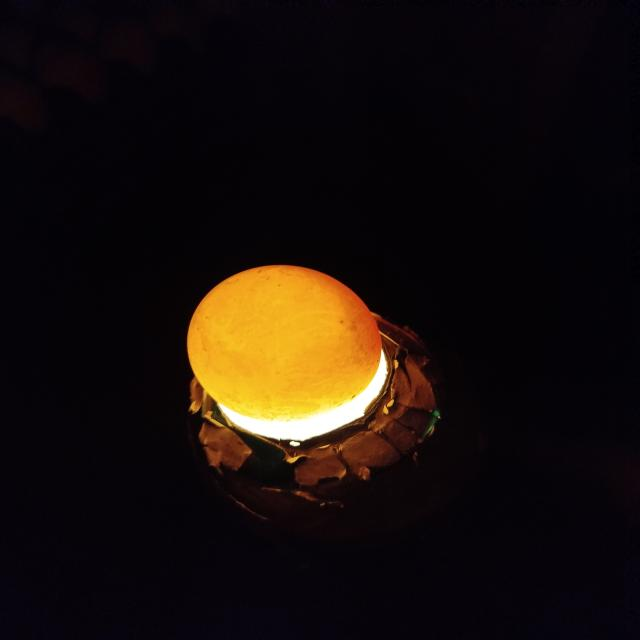Gema Quebrada: (281, 265, 382, 354)
